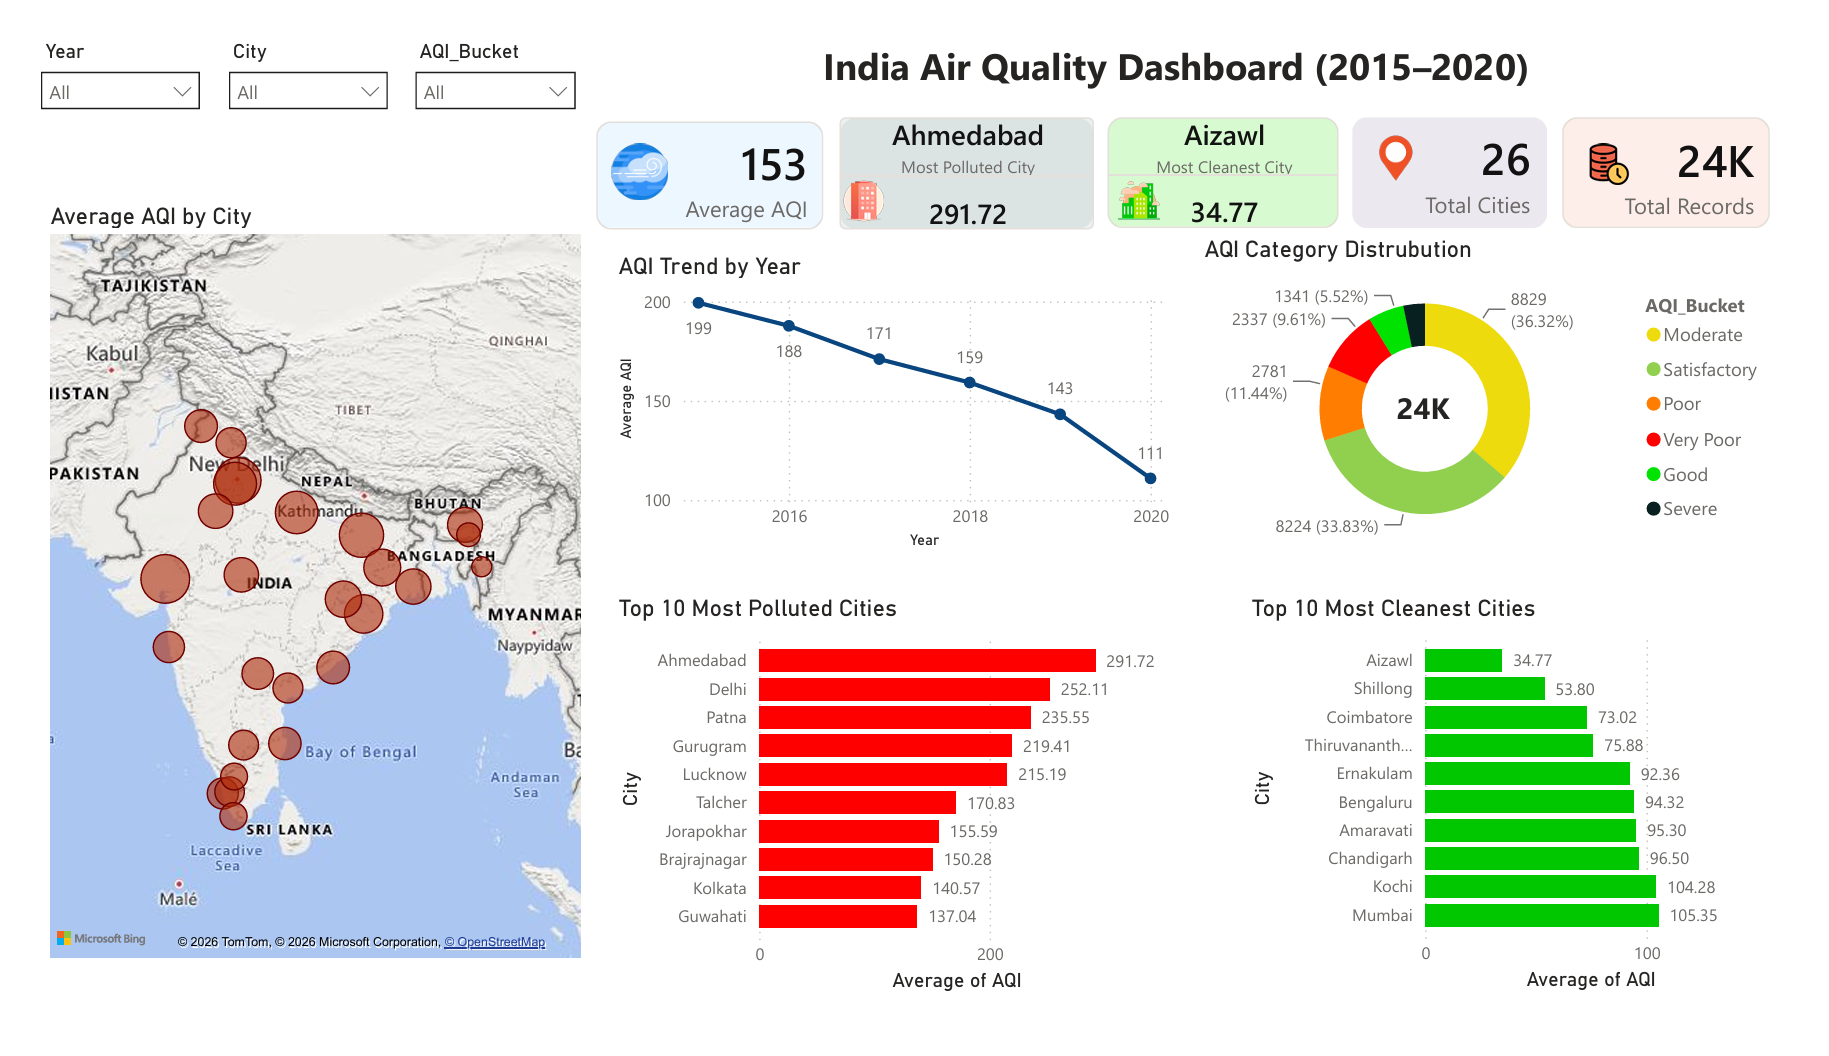

Layout of this report page (visuals, bound fields, positions):
{"tool":"powerbi","page":{"name":"Page 1","canvas":[1280,720],"ordinal":0},"visuals":[{"type":"cardVisual","fields":{"Data":["cleaned_aqi.Average AQI"]},"box":[407.1,58.6,174.3,88.6],"z":0},{"type":"cardVisual","fields":{"Data":["cleaned_aqi.Total Cities"]},"box":[954.3,55.7,151.4,90],"z":1000},{"type":"cardVisual","fields":{"Data":["cleaned_aqi.Total Records"]},"box":[1105.7,55.7,160,90],"z":2000},{"type":"lineChart","title":"AQI Trend by Year","fields":{"Category":["cleaned_aqi.Year"],"Y":["cleaned_aqi.Average AQI"]},"box":[422.9,158,408,220.2],"z":3000},{"type":"donutChart","title":"AQI Category Distrubution","fields":{"Category":["cleaned_aqi.AQI_Bucket"],"Y":["CountNonNull(cleaned_aqi.AQI)"]},"box":[847.1,145.5,419.2,233.9],"z":4000},{"type":"clusteredBarChart","title":"Top 10 Most Polluted Cities","fields":{"Category":["cleaned_aqi.City"],"Y":["Avg(cleaned_aqi.AQI)"]},"box":[422.9,405.7,408.6,292.9],"z":5000},{"type":"clusteredBarChart","title":"Top 10 Most Cleanest Cities","fields":{"Category":["cleaned_aqi.City"],"Y":["Avg(cleaned_aqi.AQI)"]},"box":[881,406.2,385.6,292.3],"z":6000},{"type":"slicer","fields":{"Values":["cleaned_aqi.Year"]},"box":[0,0,135,58.5],"z":7000},{"type":"slicer","fields":{"Values":["cleaned_aqi.City"]},"box":[135.6,0,135.6,58.5],"z":8000},{"type":"slicer","fields":{"Values":["cleaned_aqi.AQI_Bucket"]},"box":[271.2,0,135.6,58.5],"z":9000},{"type":"textbox","box":[516.2,0,630.7,58.5],"z":10000},{"type":"map","fields":{"Category":["cleaned_aqi.City"],"Size":["cleaned_aqi.Average AQI"]},"box":[12.4,121.9,394.3,553.6],"z":11000},{"type":"image","box":[1124.3,80,41.4,30],"z":12000},{"type":"image","box":[422.9,80,41.4,41.4],"z":13000},{"type":"image","box":[955.7,71.4,68.6,38.6],"z":14000},{"type":"textbox","box":[986.5,251.3,58.5,41.1],"z":15000},{"type":"cardVisual","fields":{"Data":["cleaned_aqi.Most Cleanest City"]},"box":[777.1,55.7,177.1,90],"z":16000},{"type":"cardVisual","fields":{"Data":["cleaned_aqi.Highest City AQI"]},"box":[582.9,55.7,194.3,91.4],"z":17000},{"type":"image","box":[790,101.4,30,40],"z":18000},{"type":"image","box":[584.3,105.7,42.9,31.4],"z":19000}]}

Visuals, with their boxes in screenshot pixels (x1, y1, x2, y2), scaled from the page's 1280x720 canvas onto the 1829x1056 screenshot:
cardVisual - cleaned_aqi.Average AQI: left=582, top=86, right=831, bottom=216
cardVisual - cleaned_aqi.Total Cities: left=1364, top=82, right=1580, bottom=214
cardVisual - cleaned_aqi.Total Records: left=1580, top=82, right=1809, bottom=214
"AQI Trend by Year" lineChart: left=604, top=232, right=1187, bottom=555
"AQI Category Distrubution" donutChart: left=1210, top=213, right=1809, bottom=556
"Top 10 Most Polluted Cities" clusteredBarChart: left=604, top=595, right=1188, bottom=1025
"Top 10 Most Cleanest Cities" clusteredBarChart: left=1259, top=596, right=1810, bottom=1024
slicer - cleaned_aqi.Year: left=0, top=0, right=193, bottom=86
slicer - cleaned_aqi.City: left=194, top=0, right=388, bottom=86
slicer - cleaned_aqi.AQI_Bucket: left=388, top=0, right=581, bottom=86
textbox: left=738, top=0, right=1639, bottom=86
map - cleaned_aqi.City x cleaned_aqi.Average AQI: left=18, top=179, right=581, bottom=991
image: left=1607, top=117, right=1666, bottom=161
image: left=604, top=117, right=663, bottom=178
image: left=1366, top=105, right=1464, bottom=161
textbox: left=1410, top=369, right=1493, bottom=429
cardVisual - cleaned_aqi.Most Cleanest City: left=1110, top=82, right=1363, bottom=214
cardVisual - cleaned_aqi.Highest City AQI: left=833, top=82, right=1111, bottom=216
image: left=1129, top=149, right=1172, bottom=207
image: left=835, top=155, right=896, bottom=201
